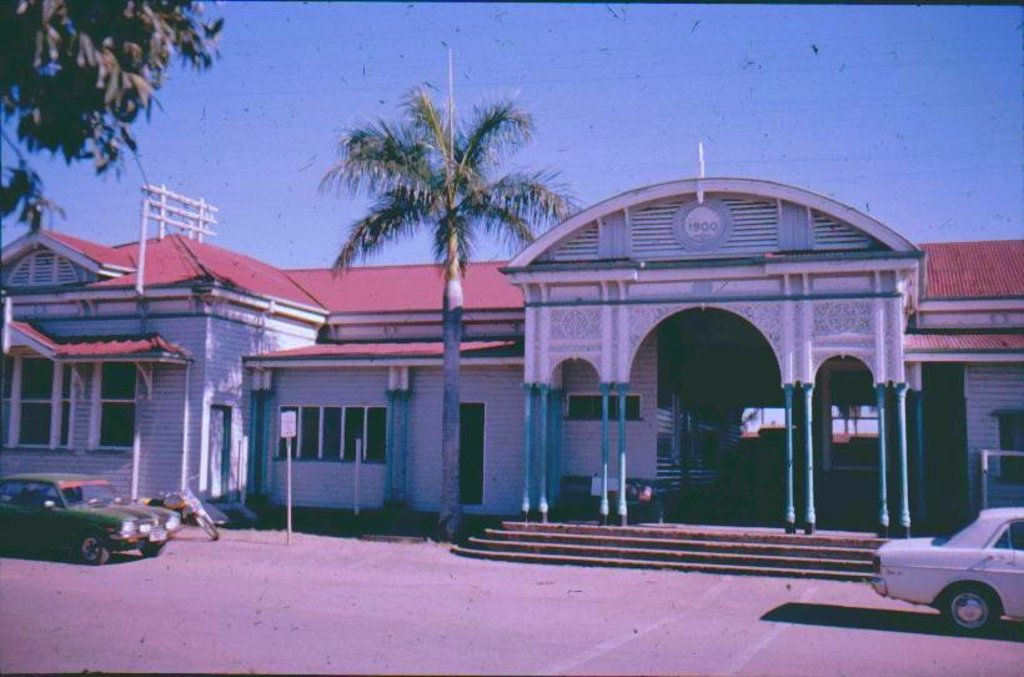mobil: (870, 502, 1024, 649), (1, 471, 189, 556)
